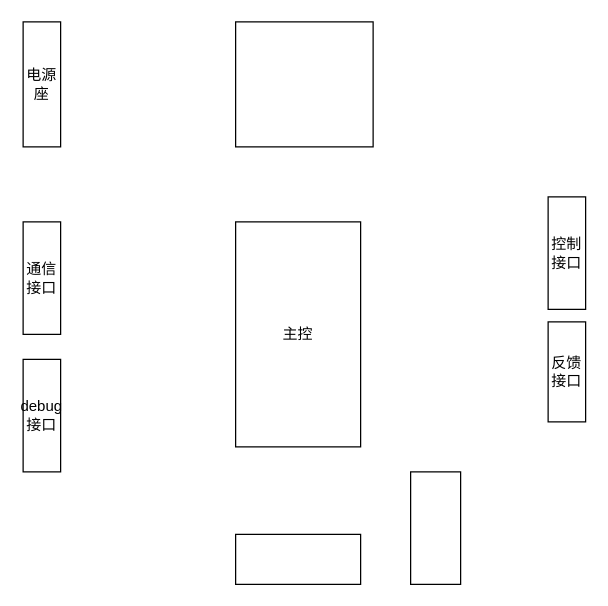
The diagram is 608 pixels wide and 606 high, and some of its shapes have lost their labels. Here are the shapes that lost their labels. From the top down, the centre of each, then its label:
[303,84]: 电源
[435,527]: 姿态传感器
[297,558]: LED电路 按键电路
